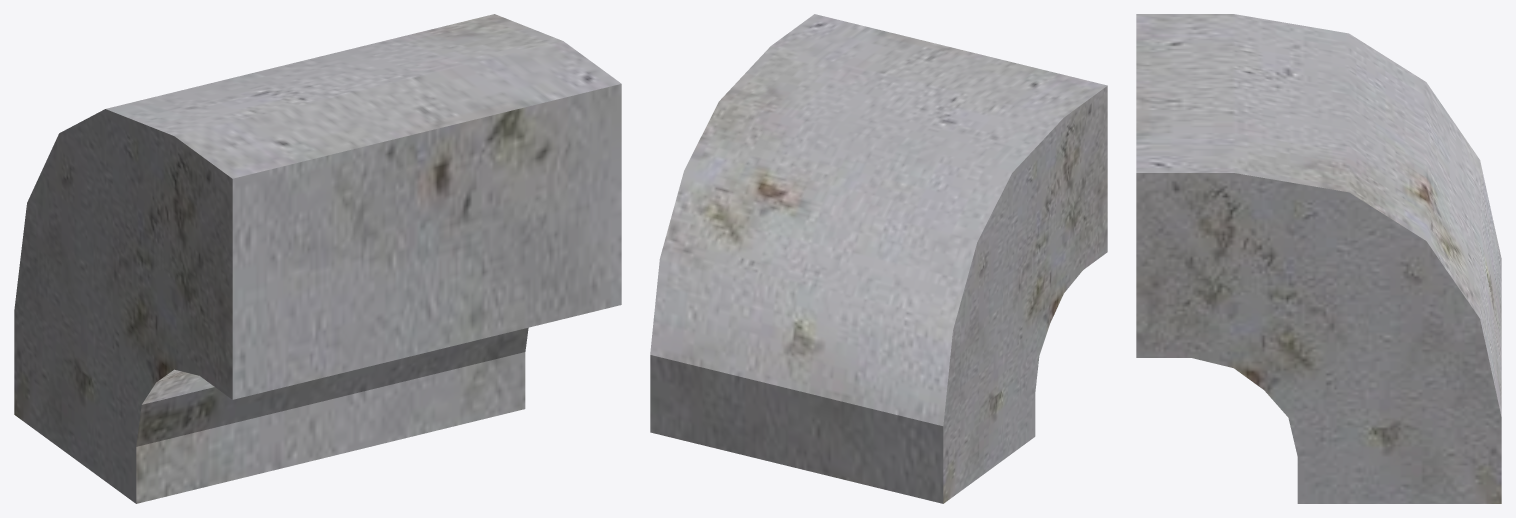
Rendered from vent_large_corner002.glb.
3 renders of one model, left to right at view 1: azimuth 30°, elevation 25°; view 2: azimuth 150°, elevation 25°; view 3: azimuth 270°, elevation 25°, orthographic. The views are drawn at different scales.
Visible parts, largest first — view 1: 0_borealis_vent001; view 2: 0_borealis_vent001; view 3: 0_borealis_vent001.
Boxes of the visible parts, x1,y1,x2,y2 form: 0_borealis_vent001: (14,14,621,503); 0_borealis_vent001: (650,14,1107,503); 0_borealis_vent001: (1136,14,1501,503).
Bounding box in the file's own units: 0.889 × 0.8636 × 0.8636.
Materials: 1 (1 with a texture image).
